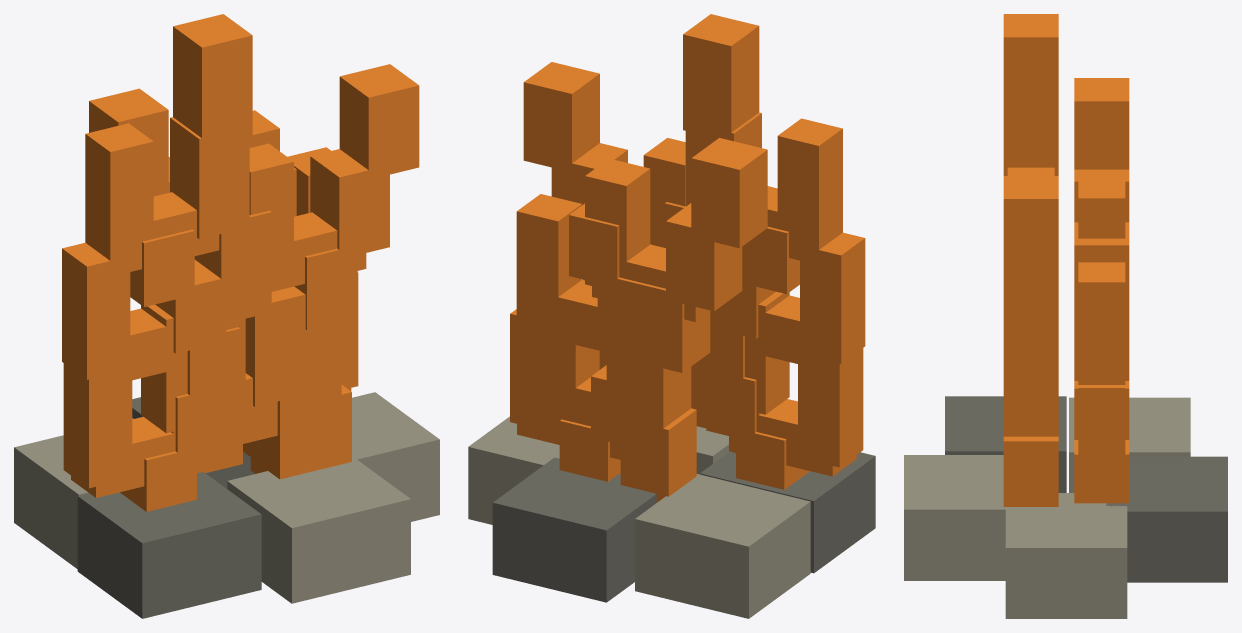
File: coral_kit__coral_2.glb
The picture shows the model from 3 angles, left to right: view 1: azimuth 30°, elevation 25°; view 2: azimuth 150°, elevation 25°; view 3: azimuth 270°, elevation 25°; orthographic projection. The views are drawn at different scales.
Visible parts, largest first — view 1: coral_2__orange.001, coral_2__stone.001, coral_2__stone_dark.001; view 2: coral_2__orange.001, coral_2__stone.001, coral_2__stone_dark.001; view 3: coral_2__orange.001, coral_2__stone.001, coral_2__stone_dark.001.
Boxes of the visible parts, left/top/right/bottom form: coral_2__orange.001: left=62, top=14, right=419, bottom=511; coral_2__stone.001: left=14, top=392, right=439, bottom=603; coral_2__stone_dark.001: left=77, top=397, right=261, bottom=618; coral_2__orange.001: left=510, top=14, right=865, bottom=502; coral_2__stone.001: left=468, top=416, right=810, bottom=618; coral_2__stone_dark.001: left=492, top=451, right=875, bottom=602; coral_2__orange.001: left=1003, top=14, right=1129, bottom=506; coral_2__stone.001: left=904, top=397, right=1190, bottom=618; coral_2__stone_dark.001: left=945, top=396, right=1227, bottom=582.
Size of the model in its own units: 0.9739 by 1.39 by 0.8251.
